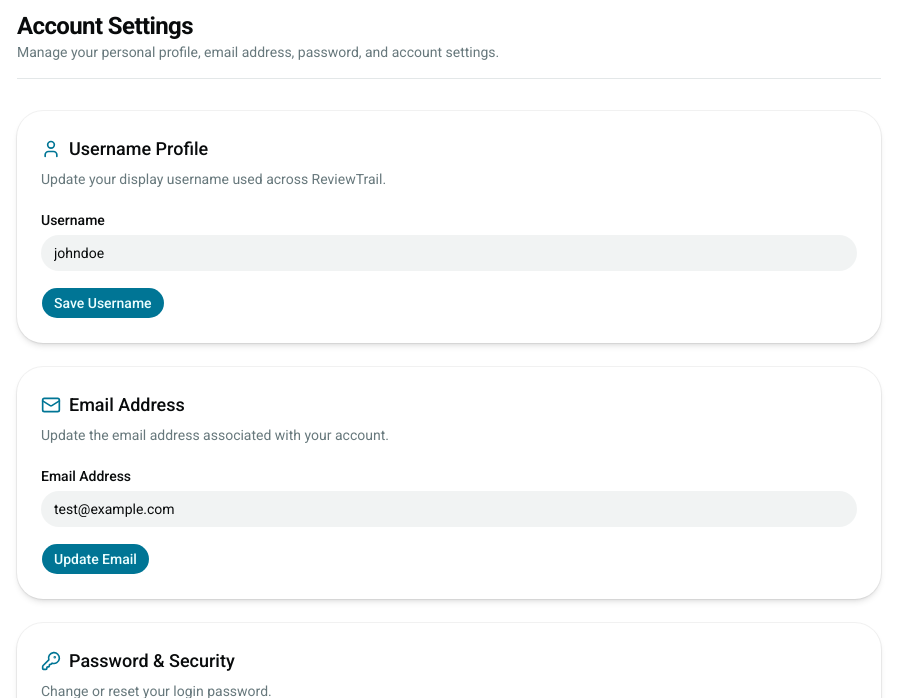
Test: SettingsPage Component › Username Form › displays error message when username update fails (e.g. taken)
Replace the text in the field labelled "Username" with "takenusername" at (449, 253), box [41, 235, 857, 271]
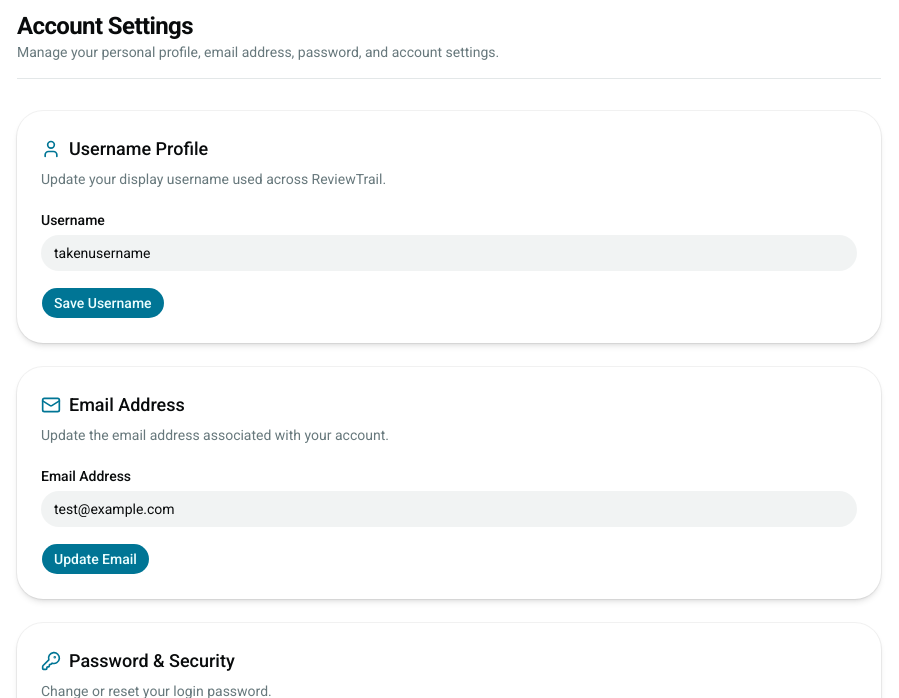
Click the button "Save Username" at (103, 303), box [41, 287, 165, 319]
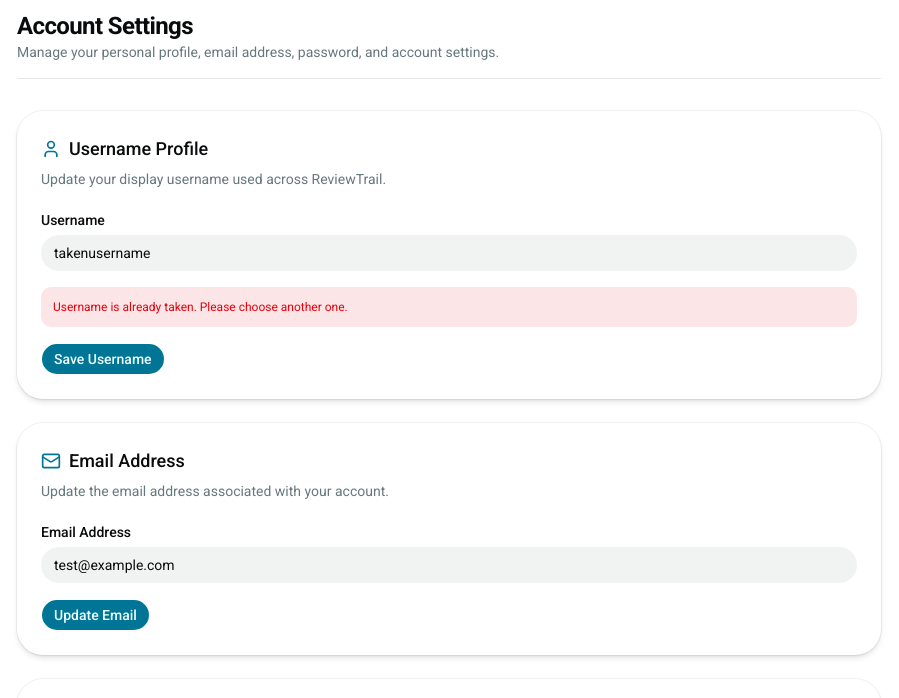
Now the text "Username is already taken. Please choose another one." is shown, box [53, 299, 348, 315]
